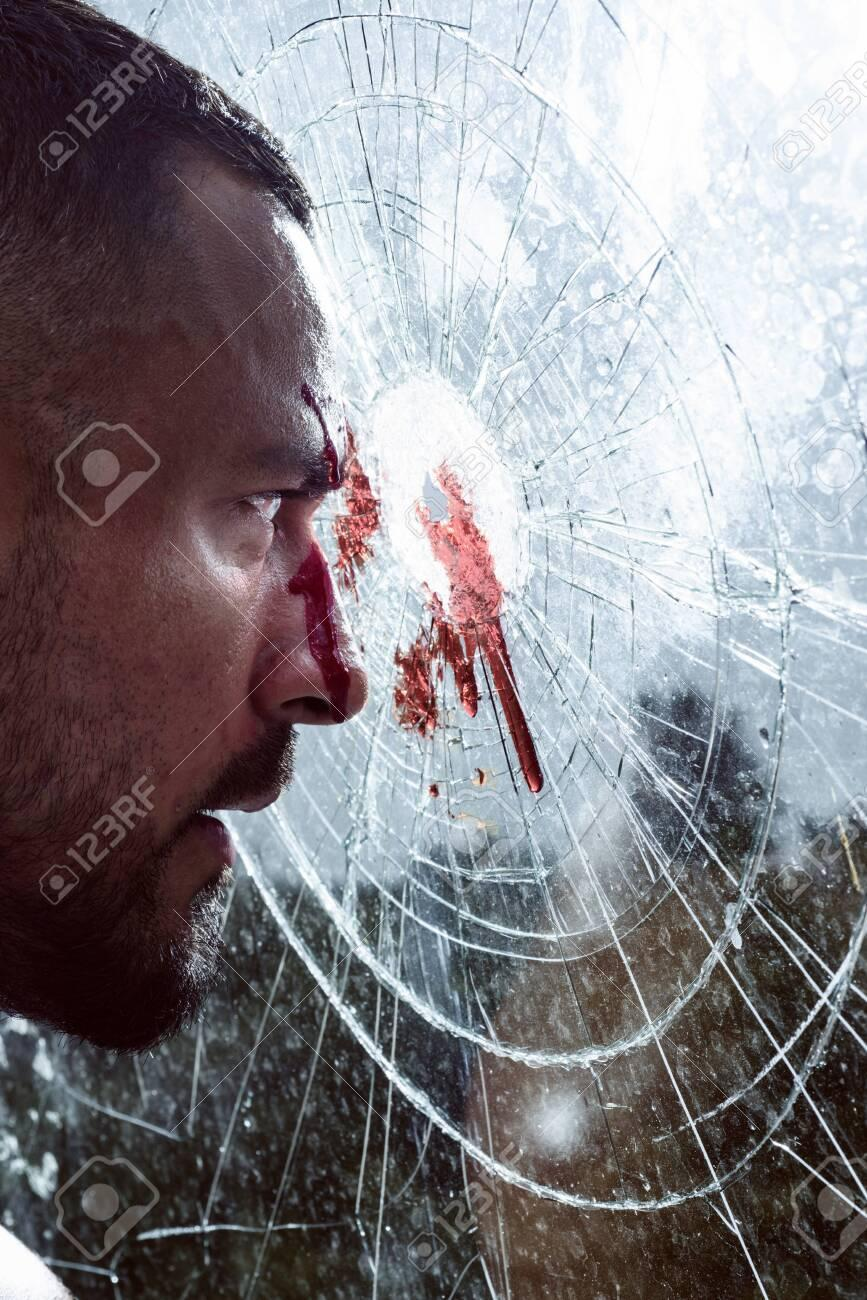Fire: (393, 462, 545, 792), (288, 543, 351, 721), (334, 418, 380, 566)
